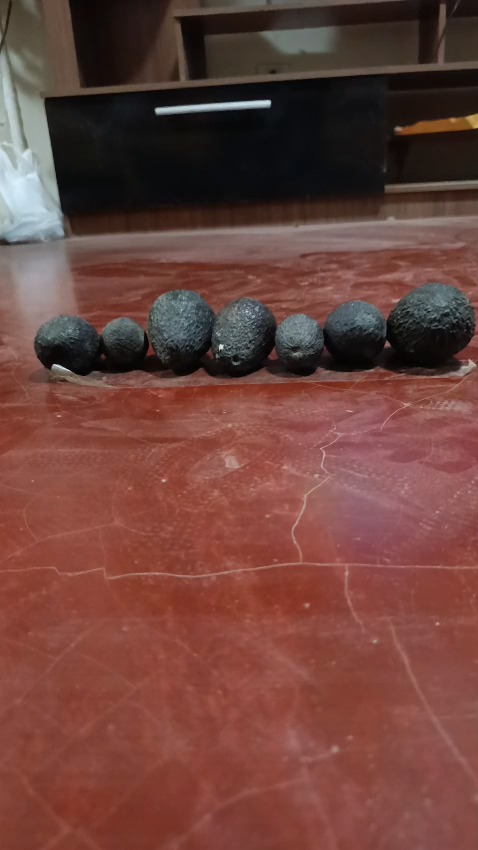Primera: (387, 282, 474, 365), (147, 289, 215, 373)
Segunda: (210, 297, 276, 376), (322, 300, 388, 367), (34, 315, 100, 376)
Tercera: (274, 313, 324, 375), (101, 317, 147, 370)
